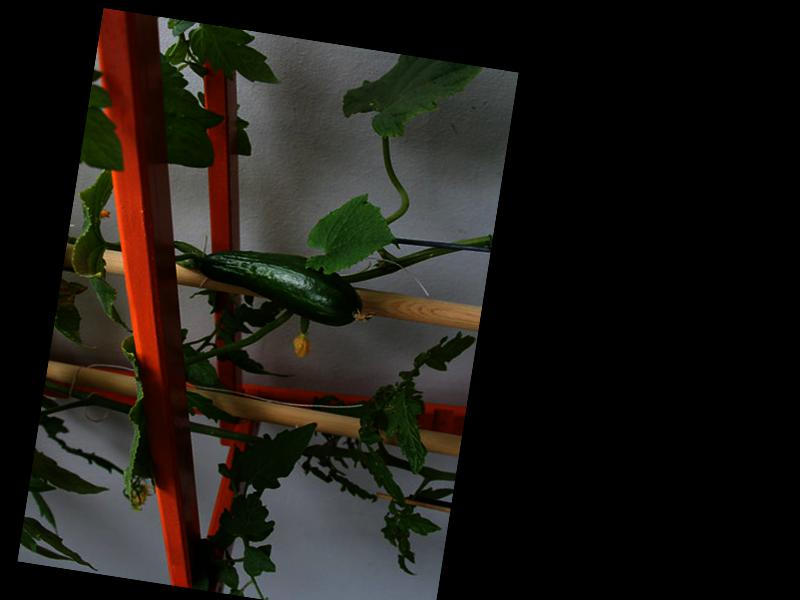Cucumber: (194, 242, 379, 331)
